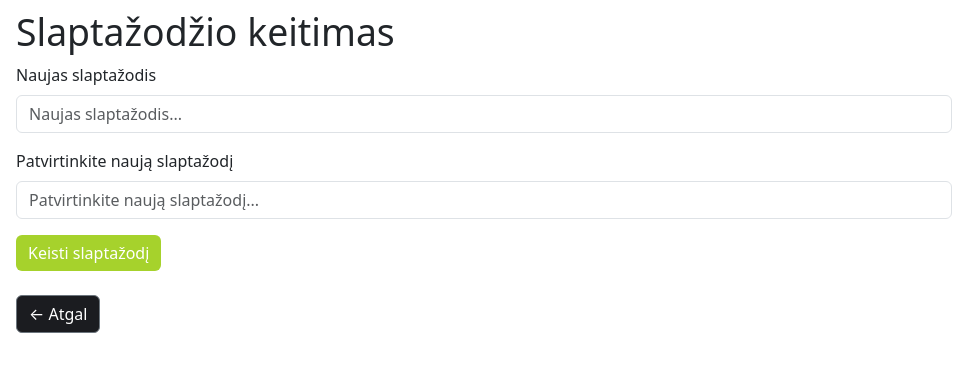
Test: ChangePassword component › displays error message for non-matching passwords
Type "password1" into the password field labelled "Naujas slaptažodis" at (484,114), box [16, 95, 952, 133]
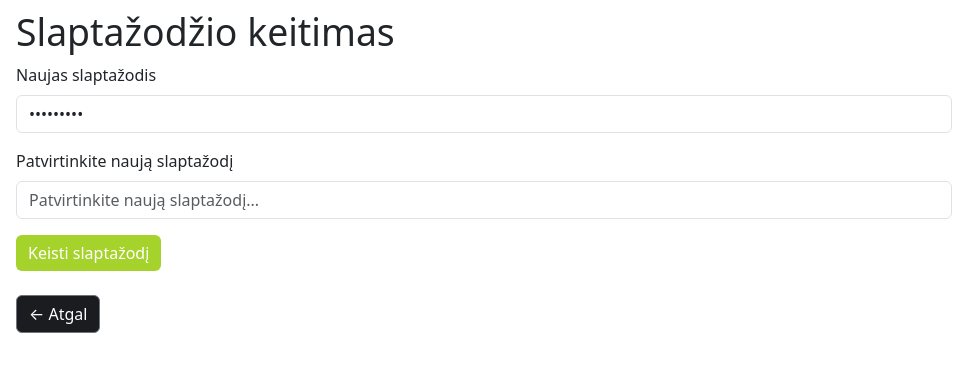
Type "password2" into the password field labelled "Patvirtinkite naują slaptažodį" at (484,200), box [16, 181, 952, 219]
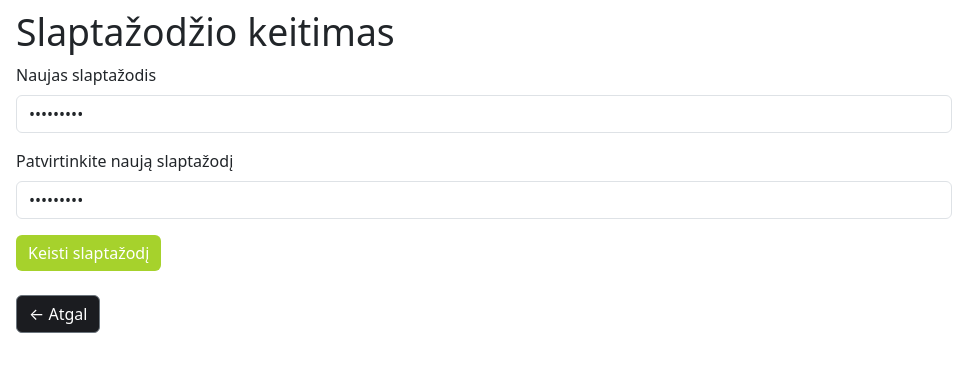
Click the button "Keisti slaptažodį" at (89,253), box [16, 235, 161, 271]
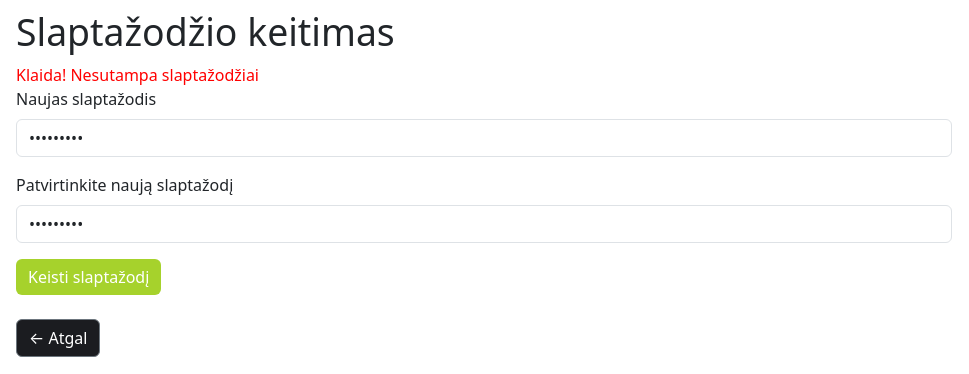
Expected: the text "Klaida! Nesutampa slaptažodžiai" is shown, [16, 64, 259, 86]
